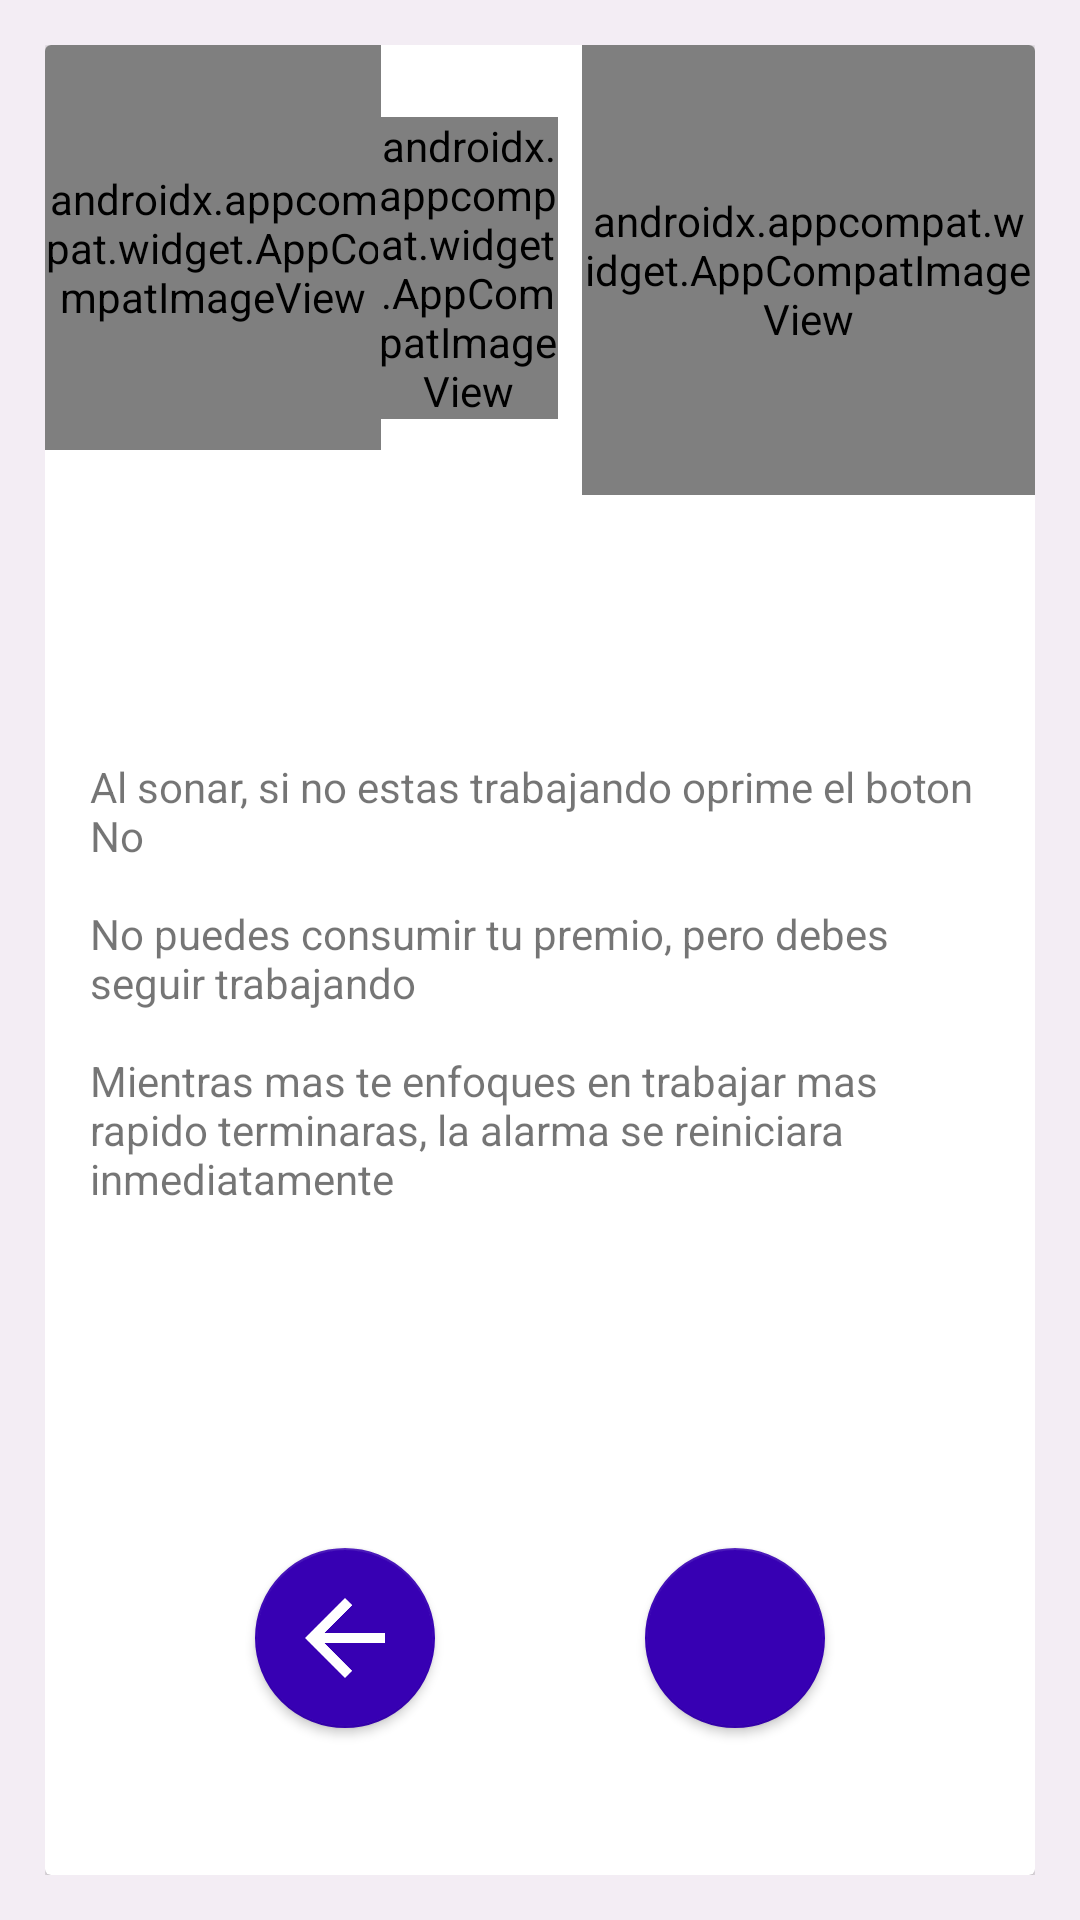

Where icons sit on this 1080×1920 app screen, as (x1, y1, x2, y2):
arrow back: (255, 1548, 435, 1728)
